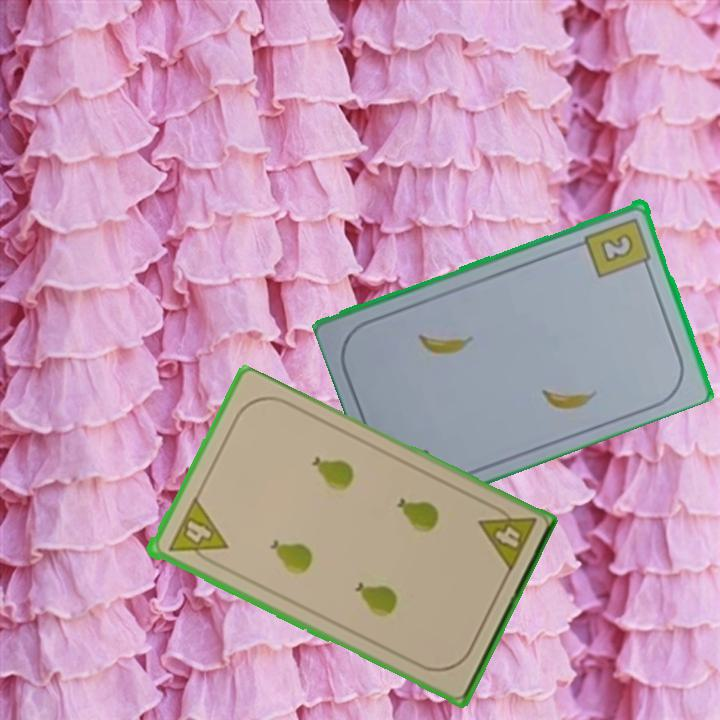2b: (581, 214, 654, 280)
4p: (474, 499, 539, 575), (164, 496, 230, 570)
